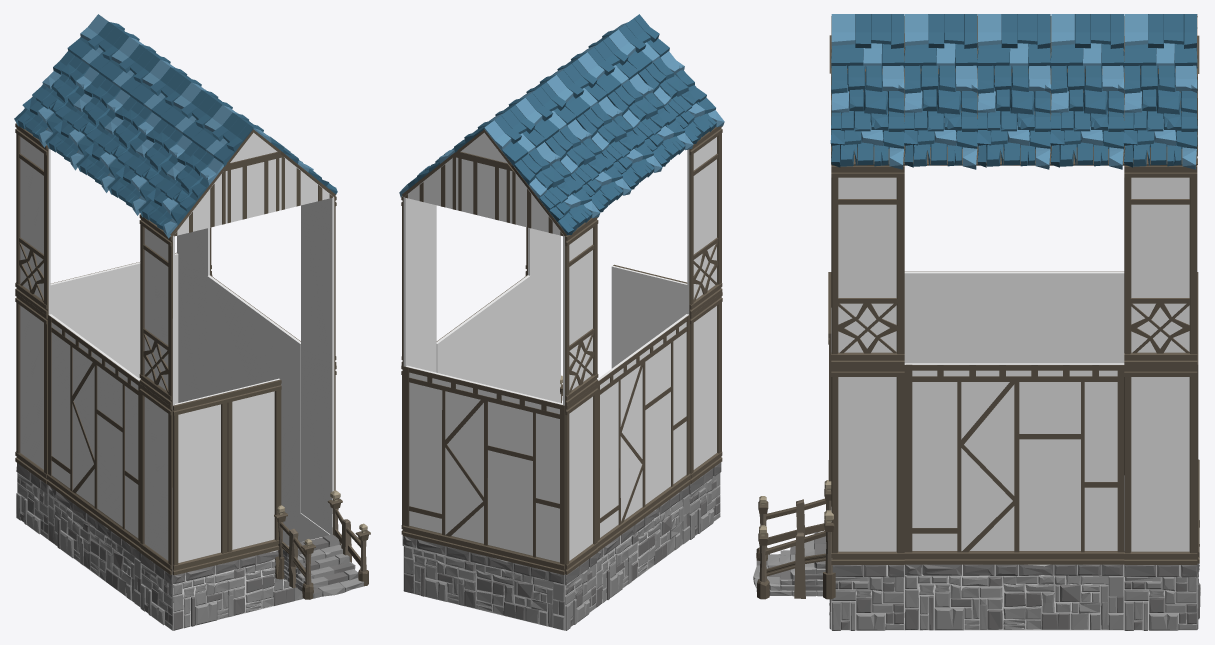
Rendered from House_08_parts.glb.
3 renders of one model, left to right at view 1: azimuth 30°, elevation 25°; view 2: azimuth 150°, elevation 25°; view 3: azimuth 270°, elevation 25°, orthographic. The views are drawn at different scales.
Visible parts, largest first — view 1: WALL_05_2, WALL_05_4, WALL_03_4, WALL_03_3, WALL_05_3, FOUNDATION_02_16, WALL_04_6, WALL_04_5, STAIRS_06_2, WALL_03_7, WALL_03_5, WALL_04_3 (+21 smaller); view 2: WALL_05_3, WALL_05_2, FOUNDATION_02_18, WALL_05_4, WALL_04_5, WALL_04_6, WALL_03_6, WALL_04_4, WALL_03_5, FOUNDATION_02_19, WALL_03_3, WALL_03_7 (+20 smaller); view 3: WALL_05_4, WALL_05_2, WALL_04_3, WALL_04_4, FOUNDATION_02_17, WALL_03_8, WALL_03_7, ROOF_base_7, ROOF_base_4, ROOF_base_5, ROOF_base_3, ROOF_base_6 (+9 smaller).
Part boxes in pixels (left/top/right/bottom): WALL_05_2: left=47, top=314, right=140, bottom=551; WALL_05_4: left=207, top=275, right=300, bottom=512; WALL_03_4: left=173, top=391, right=227, bottom=575; WALL_03_3: left=226, top=378, right=281, bottom=562; WALL_05_3: left=50, top=252, right=178, bottom=403; FOUNDATION_02_16: left=173, top=537, right=322, bottom=630; WALL_04_6: left=139, top=214, right=174, bottom=405; WALL_04_5: left=15, top=123, right=50, bottom=314; STAIRS_06_2: left=274, top=490, right=370, bottom=599; WALL_03_7: left=301, top=344, right=336, bottom=534; WALL_03_5: left=139, top=384, right=172, bottom=574; WALL_04_3: left=301, top=196, right=336, bottom=366; WALL_05_3: left=402, top=365, right=564, bottom=574; WALL_05_2: left=597, top=314, right=690, bottom=551; FOUNDATION_02_18: left=403, top=536, right=565, bottom=630; WALL_05_4: left=436, top=275, right=530, bottom=395; WALL_04_5: left=563, top=217, right=598, bottom=405; WALL_04_6: left=687, top=126, right=722, bottom=314; WALL_03_6: left=565, top=383, right=598, bottom=574; WALL_04_4: left=401, top=196, right=436, bottom=366; WALL_03_5: left=689, top=292, right=722, bottom=483; FOUNDATION_02_19: left=596, top=485, right=690, bottom=607; WALL_03_3: left=611, top=264, right=667, bottom=368; WALL_03_7: left=525, top=253, right=560, bottom=402; WALL_05_4: left=904, top=363, right=1124, bottom=564; WALL_05_2: left=904, top=271, right=1124, bottom=363; WALL_04_3: left=831, top=165, right=904, bottom=365; WALL_04_4: left=1124, top=165, right=1197, bottom=365; FOUNDATION_02_17: left=904, top=564, right=1124, bottom=630; WALL_03_8: left=1124, top=366, right=1197, bottom=564; WALL_03_7: left=831, top=366, right=904, bottom=564; ROOF_base_7: left=1123, top=65, right=1197, bottom=169; ROOF_base_4: left=904, top=65, right=977, bottom=169; ROOF_base_5: left=977, top=63, right=1051, bottom=169; ROOF_base_3: left=830, top=65, right=904, bottom=169; ROOF_base_6: left=1050, top=65, right=1124, bottom=169.
Size of the model in its own units: 3.21 by 8.59 by 6.11.
1 material, 1 textured.
